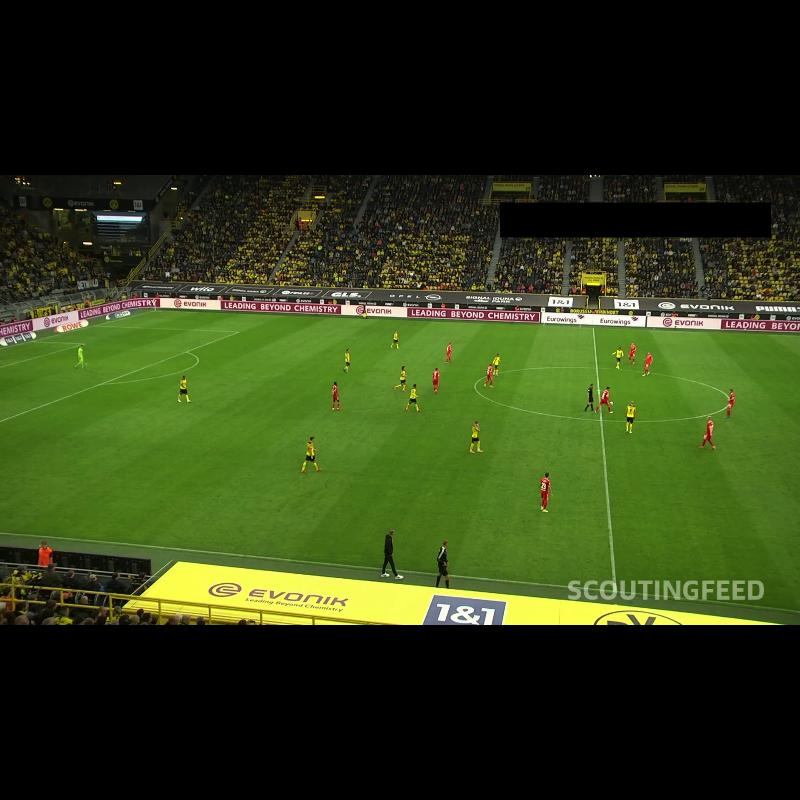cross_recipient_zone: (0, 325, 238, 421)
crossing_player_zone: (0, 432, 112, 499), (95, 310, 354, 335)
pitch: (0, 311, 800, 612)
